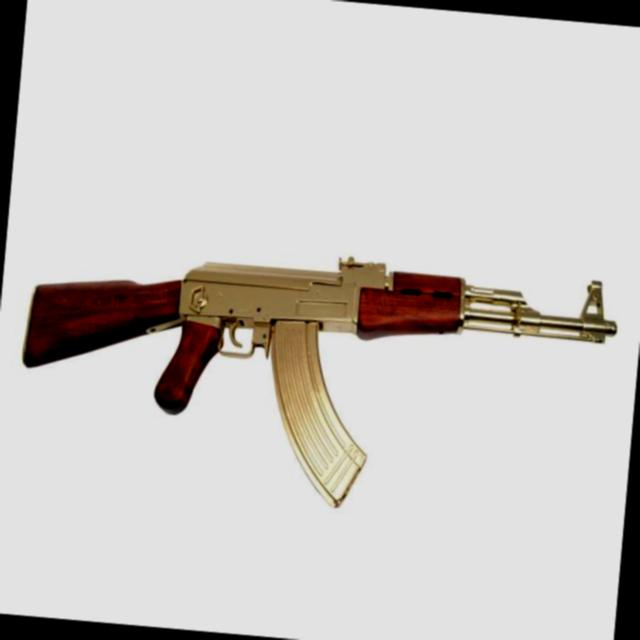ak: (0, 230, 623, 537)
